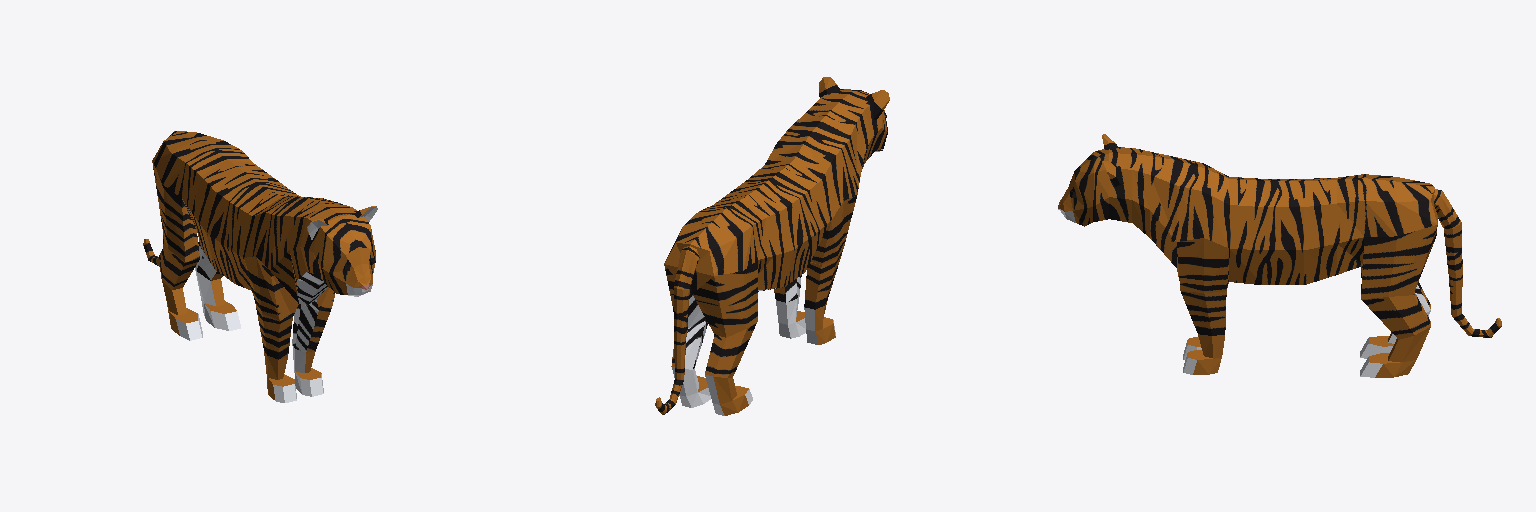
The picture shows the model from 3 angles: view 1: azimuth 30°, elevation 25°; view 2: azimuth 150°, elevation 25°; view 3: azimuth 270°, elevation 25°; orthographic projection.
Visible parts, largest first — view 1: Geo_BengalTiger; view 2: Geo_BengalTiger; view 3: Geo_BengalTiger.
Part boxes in pixels (left/top/right/bottom): Geo_BengalTiger: left=143, top=131, right=377, bottom=402; Geo_BengalTiger: left=655, top=77, right=889, bottom=415; Geo_BengalTiger: left=1058, top=134, right=1501, bottom=377.
Size of the model in its own units: 45.11 by 123 by 230.
Materials: 1 (1 with a texture image).